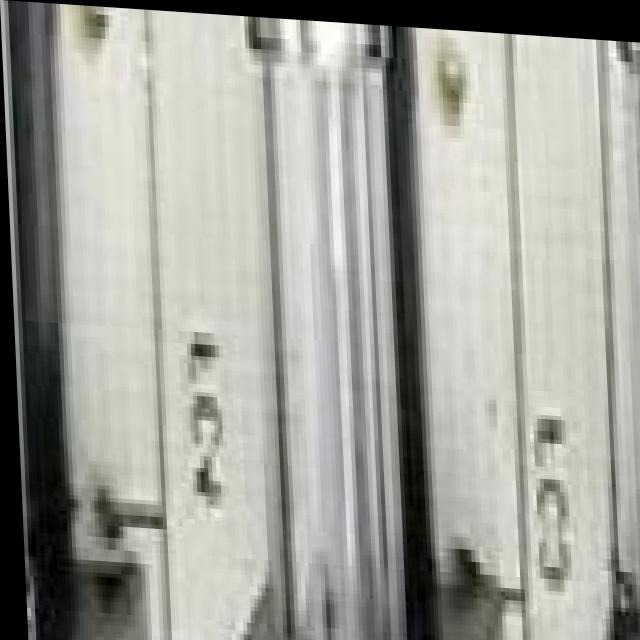fuse: (160, 8, 506, 640), (544, 29, 640, 640), (0, 0, 70, 640)
